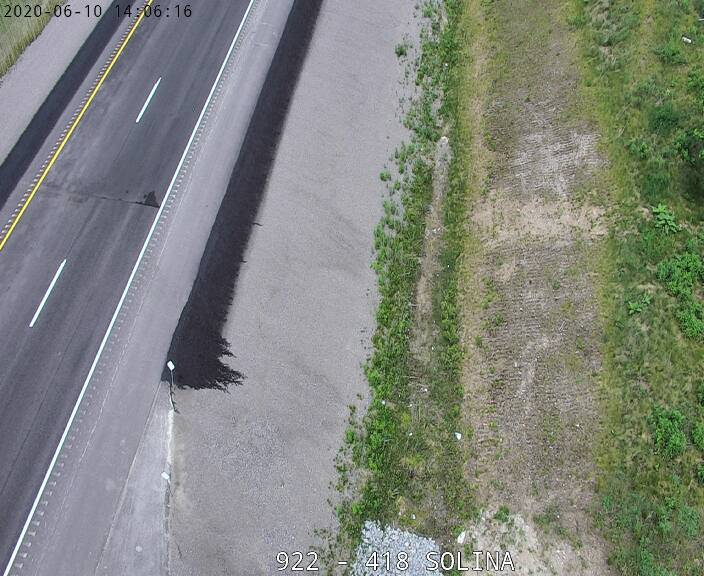time_stamp: (1, 3, 204, 23)
